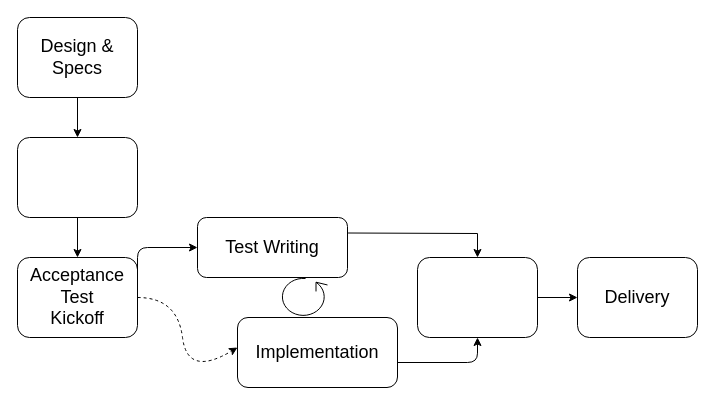
The diagram is 715 pixels wide and 405 high, and some of its shapes have lost their labels. The box of each missing label's shape, as (x1, y1, x2, y2) in pixels:
Qualification: (416, 256, 538, 338)
Test Strategy: (16, 136, 138, 218)
